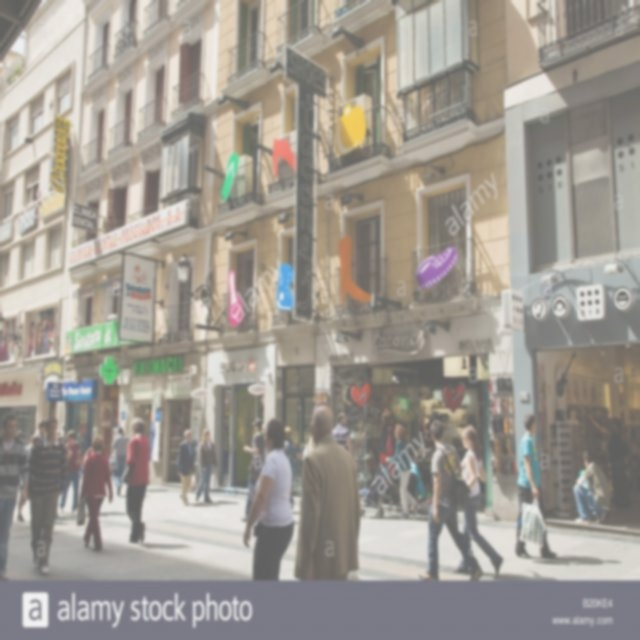pessoa: (294, 404, 363, 582), (418, 419, 483, 581), (242, 418, 296, 582), (452, 424, 504, 580), (512, 412, 560, 558), (26, 416, 70, 574), (0, 410, 30, 581), (76, 434, 115, 552), (122, 415, 154, 545), (589, 408, 631, 501), (386, 421, 422, 522), (238, 418, 268, 524), (572, 448, 612, 524), (377, 410, 401, 511), (16, 431, 42, 523), (57, 428, 82, 516), (194, 426, 220, 508), (176, 428, 198, 506), (284, 426, 302, 510), (110, 426, 130, 496), (330, 412, 352, 454), (409, 414, 426, 454), (82, 442, 109, 466), (29, 420, 47, 442)
